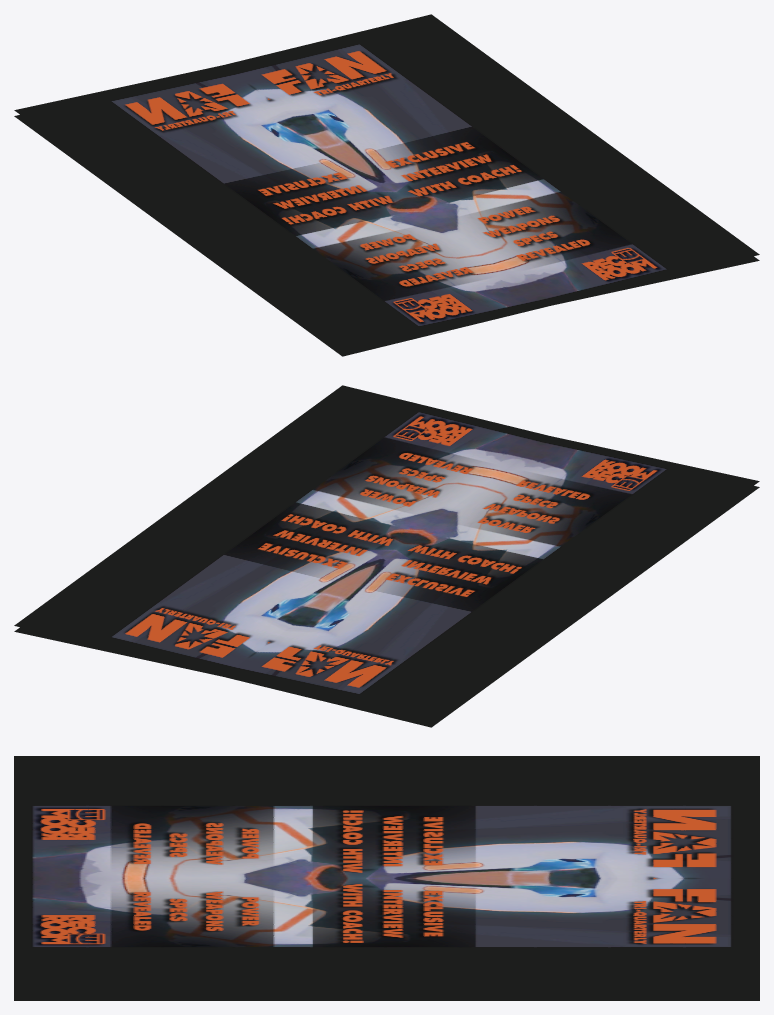
File: Magazine.fbx
3 views of the same model, one above another, from view 1: azimuth 30°, elevation 25°; view 2: azimuth 150°, elevation 25°; view 3: azimuth 270°, elevation 25° (orthographic). The views are drawn at different scales.
Visible parts, largest first — view 1: Magazine, MagazineBottom; view 2: Magazine, MagazineBottom; view 3: MagazineBottom, Magazine.
Part boxes in pixels (x1,y1,x2,y2): Magazine: (14, 14, 759, 356); MagazineBottom: (14, 65, 759, 350); Magazine: (14, 385, 759, 727); MagazineBottom: (14, 436, 759, 721); MagazineBottom: (14, 756, 759, 1000); Magazine: (14, 878, 759, 993).
Bounding box in the file's own units: 44.22 × 1.2 × 60.27.
